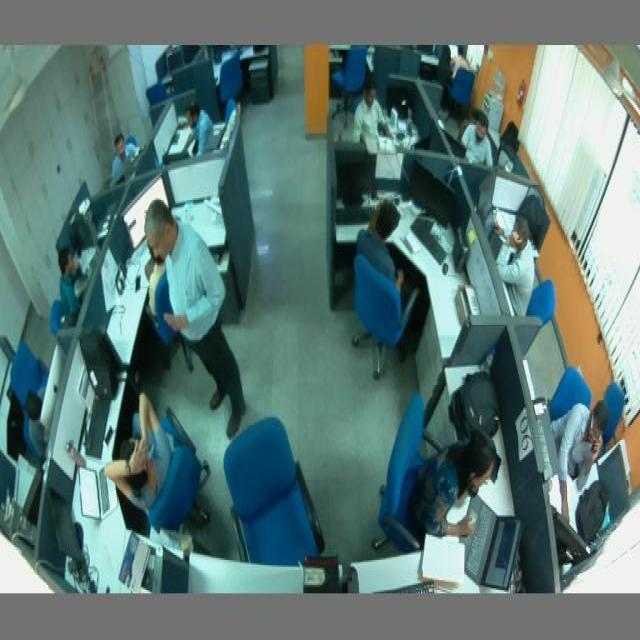chair: (223, 416, 326, 567), (351, 252, 415, 378), (150, 408, 212, 534), (550, 365, 592, 433), (334, 45, 369, 107), (9, 340, 46, 398), (598, 381, 628, 444), (524, 280, 557, 333), (218, 59, 246, 103), (450, 66, 474, 112), (144, 81, 172, 101)
keyboard: (411, 217, 452, 266), (85, 392, 111, 455), (368, 577, 437, 596), (334, 204, 376, 226)
laptop: (460, 492, 524, 590), (78, 464, 120, 523)
monitor: (35, 457, 76, 578), (404, 154, 466, 234), (548, 499, 592, 561), (333, 148, 378, 200)
person: (144, 198, 248, 442), (407, 427, 498, 543), (100, 392, 176, 515), (552, 393, 609, 525), (356, 196, 408, 306), (496, 218, 537, 320), (352, 78, 394, 148), (56, 237, 85, 320), (184, 96, 218, 162), (108, 130, 144, 183), (24, 380, 48, 457), (460, 118, 496, 167)
phone: (104, 422, 115, 446), (134, 273, 142, 295)
